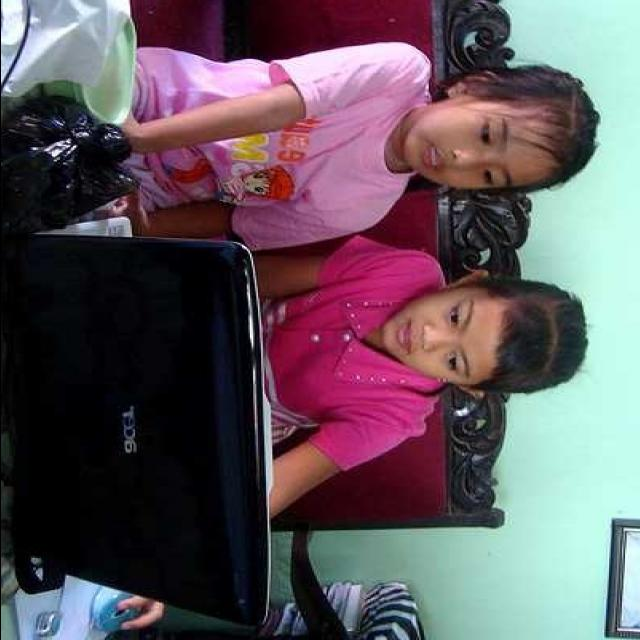laptop: (10, 232, 256, 618)
